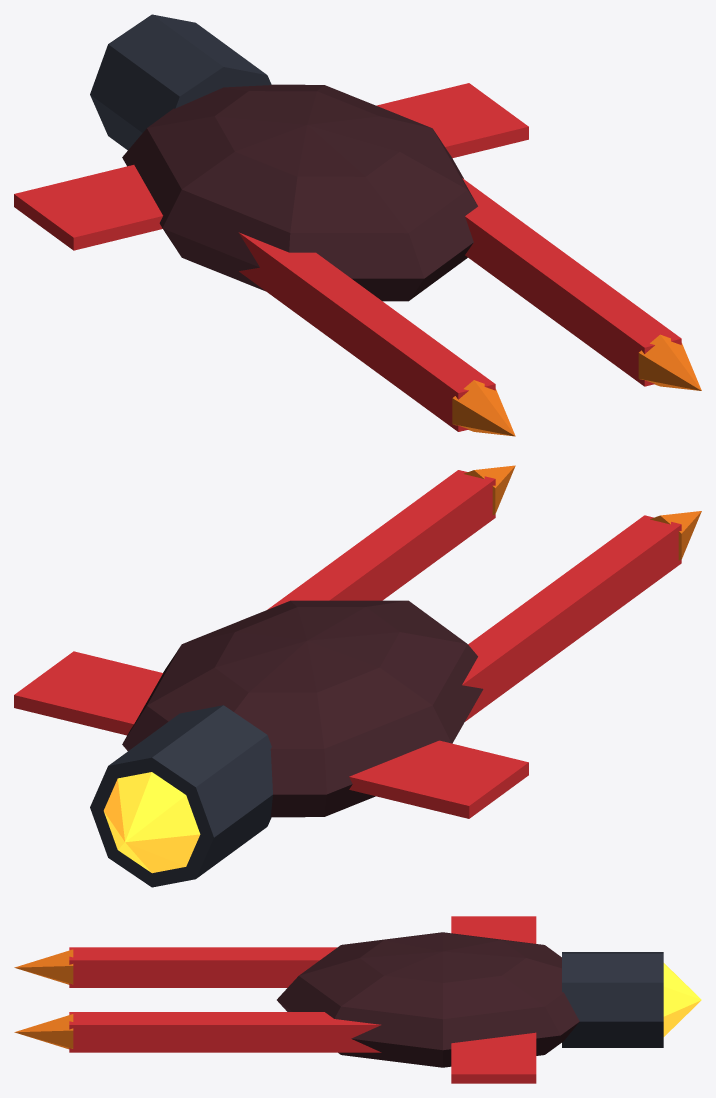
The model's file is enemy.glb.
3 views of the same model, one above another, from view 1: azimuth 30°, elevation 25°; view 2: azimuth 150°, elevation 25°; view 3: azimuth 270°, elevation 25° (orthographic). The views are drawn at different scales.
Visible parts, largest first — view 1: enemy; view 2: enemy; view 3: enemy.
Part boxes in pixels (x1,y1,x2,y2): enemy: (14, 14, 701, 436); enemy: (14, 465, 701, 887); enemy: (14, 916, 701, 1083).
Size of the model in its own units: 2.2 by 0.63 by 4.05.
Materials: 1 (1 with a texture image).
